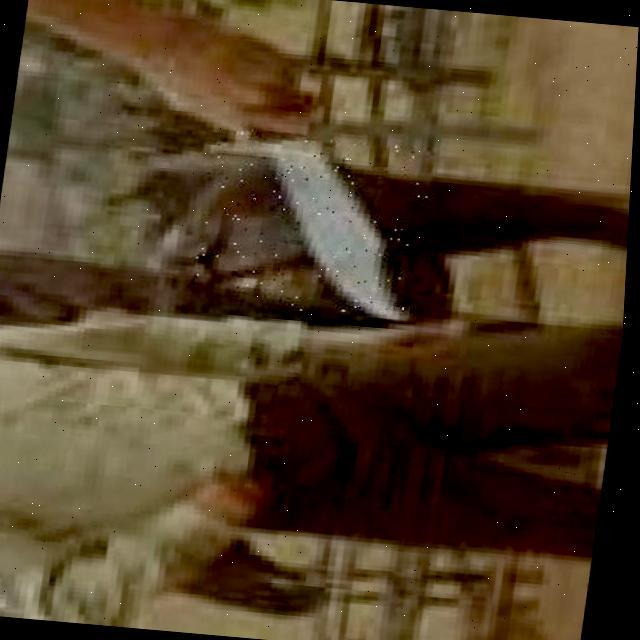knife: (192, 126, 436, 320)
